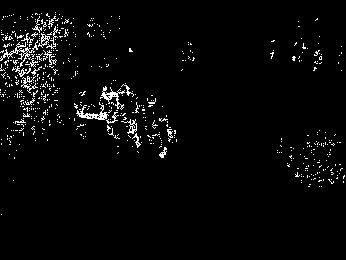person: (143, 94, 178, 165), (97, 85, 122, 155), (121, 79, 142, 155)
